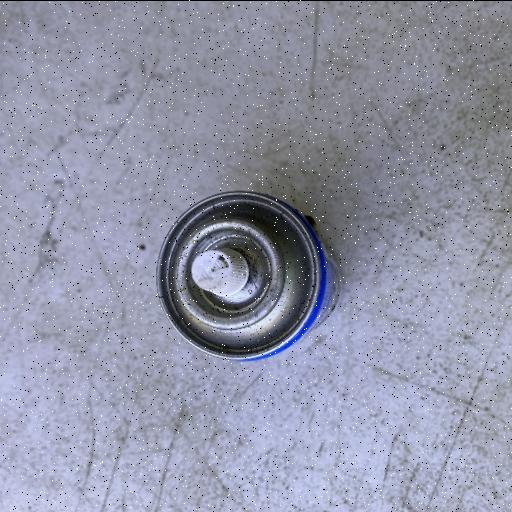Metal: (154, 190, 342, 362)
